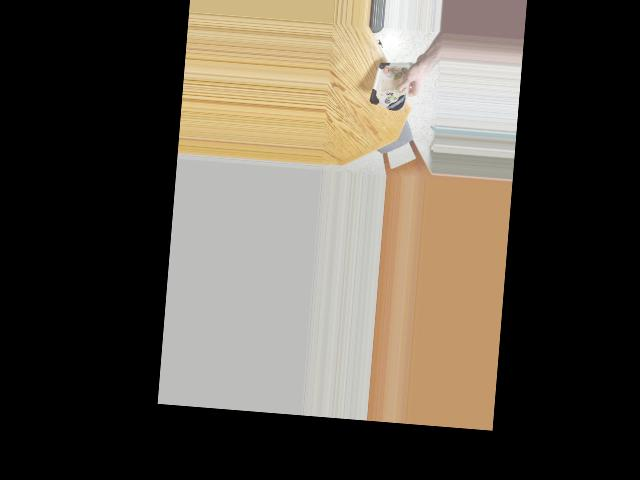cheese: (368, 58, 417, 113)
